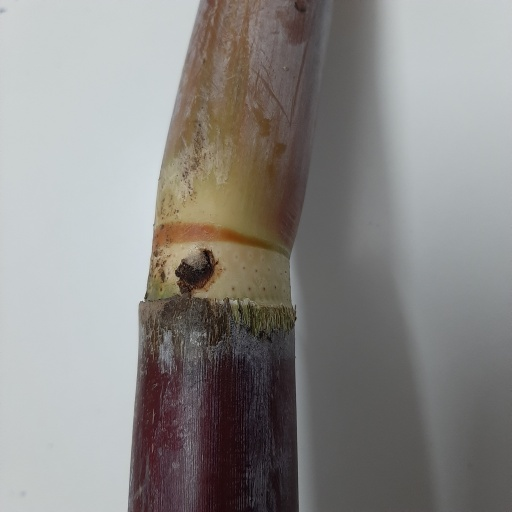Damage_Bud: (177, 247, 219, 292)
